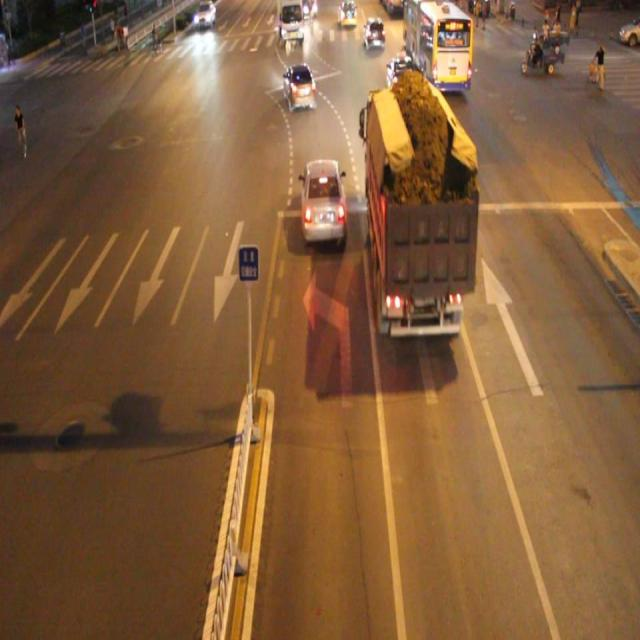bus: (366, 91, 473, 338)
car: (303, 158, 347, 245), (284, 63, 315, 111), (386, 54, 417, 100)
